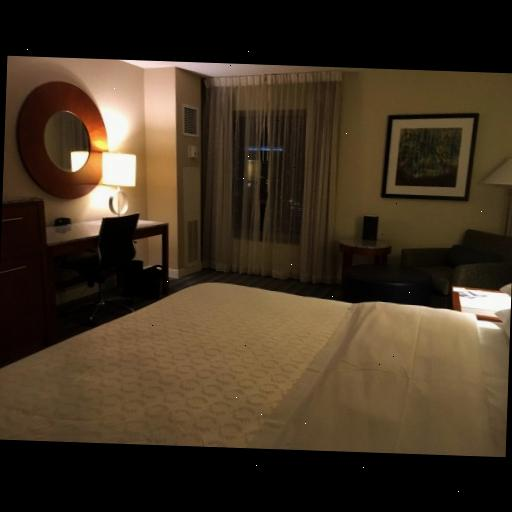chair: (82, 200, 144, 301)
clean mirror: (33, 102, 98, 184)
clean_bed: (0, 277, 505, 460)
